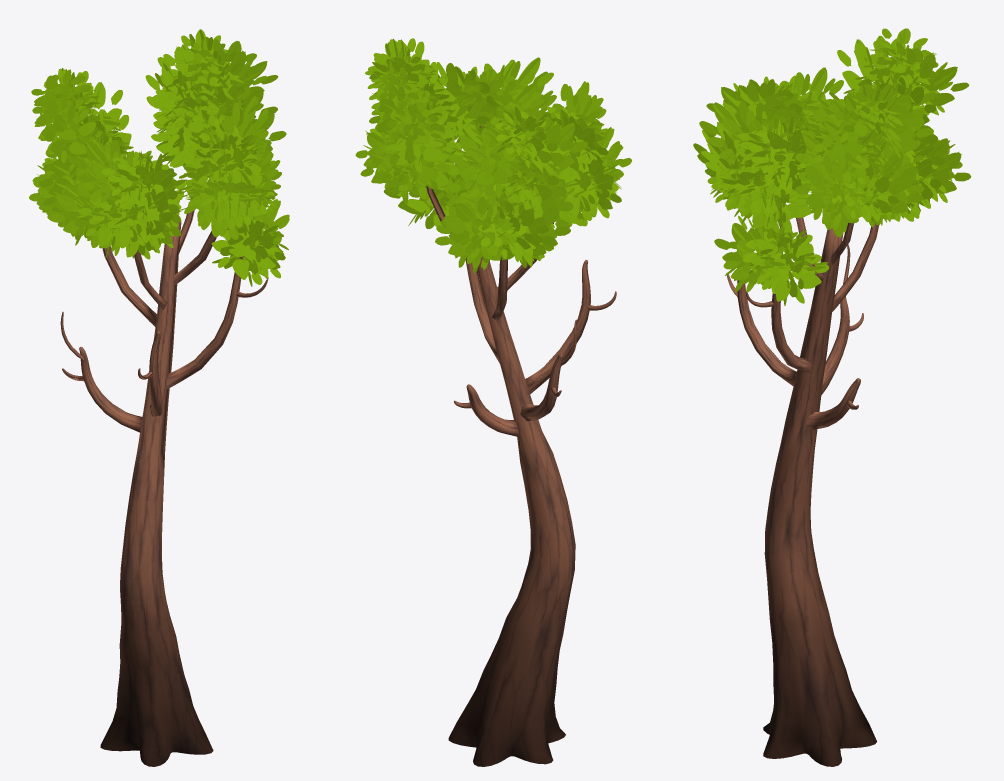
File: CommonTree_4.glb
3 views of the same model, side by side, from view 1: azimuth 30°, elevation 25°; view 2: azimuth 150°, elevation 25°; view 3: azimuth 270°, elevation 25° (orthographic). The views are drawn at different scales.
Size of the model in its own units: 3.83 by 9.44 by 3.76.
Materials: 2 (2 with a texture image).
